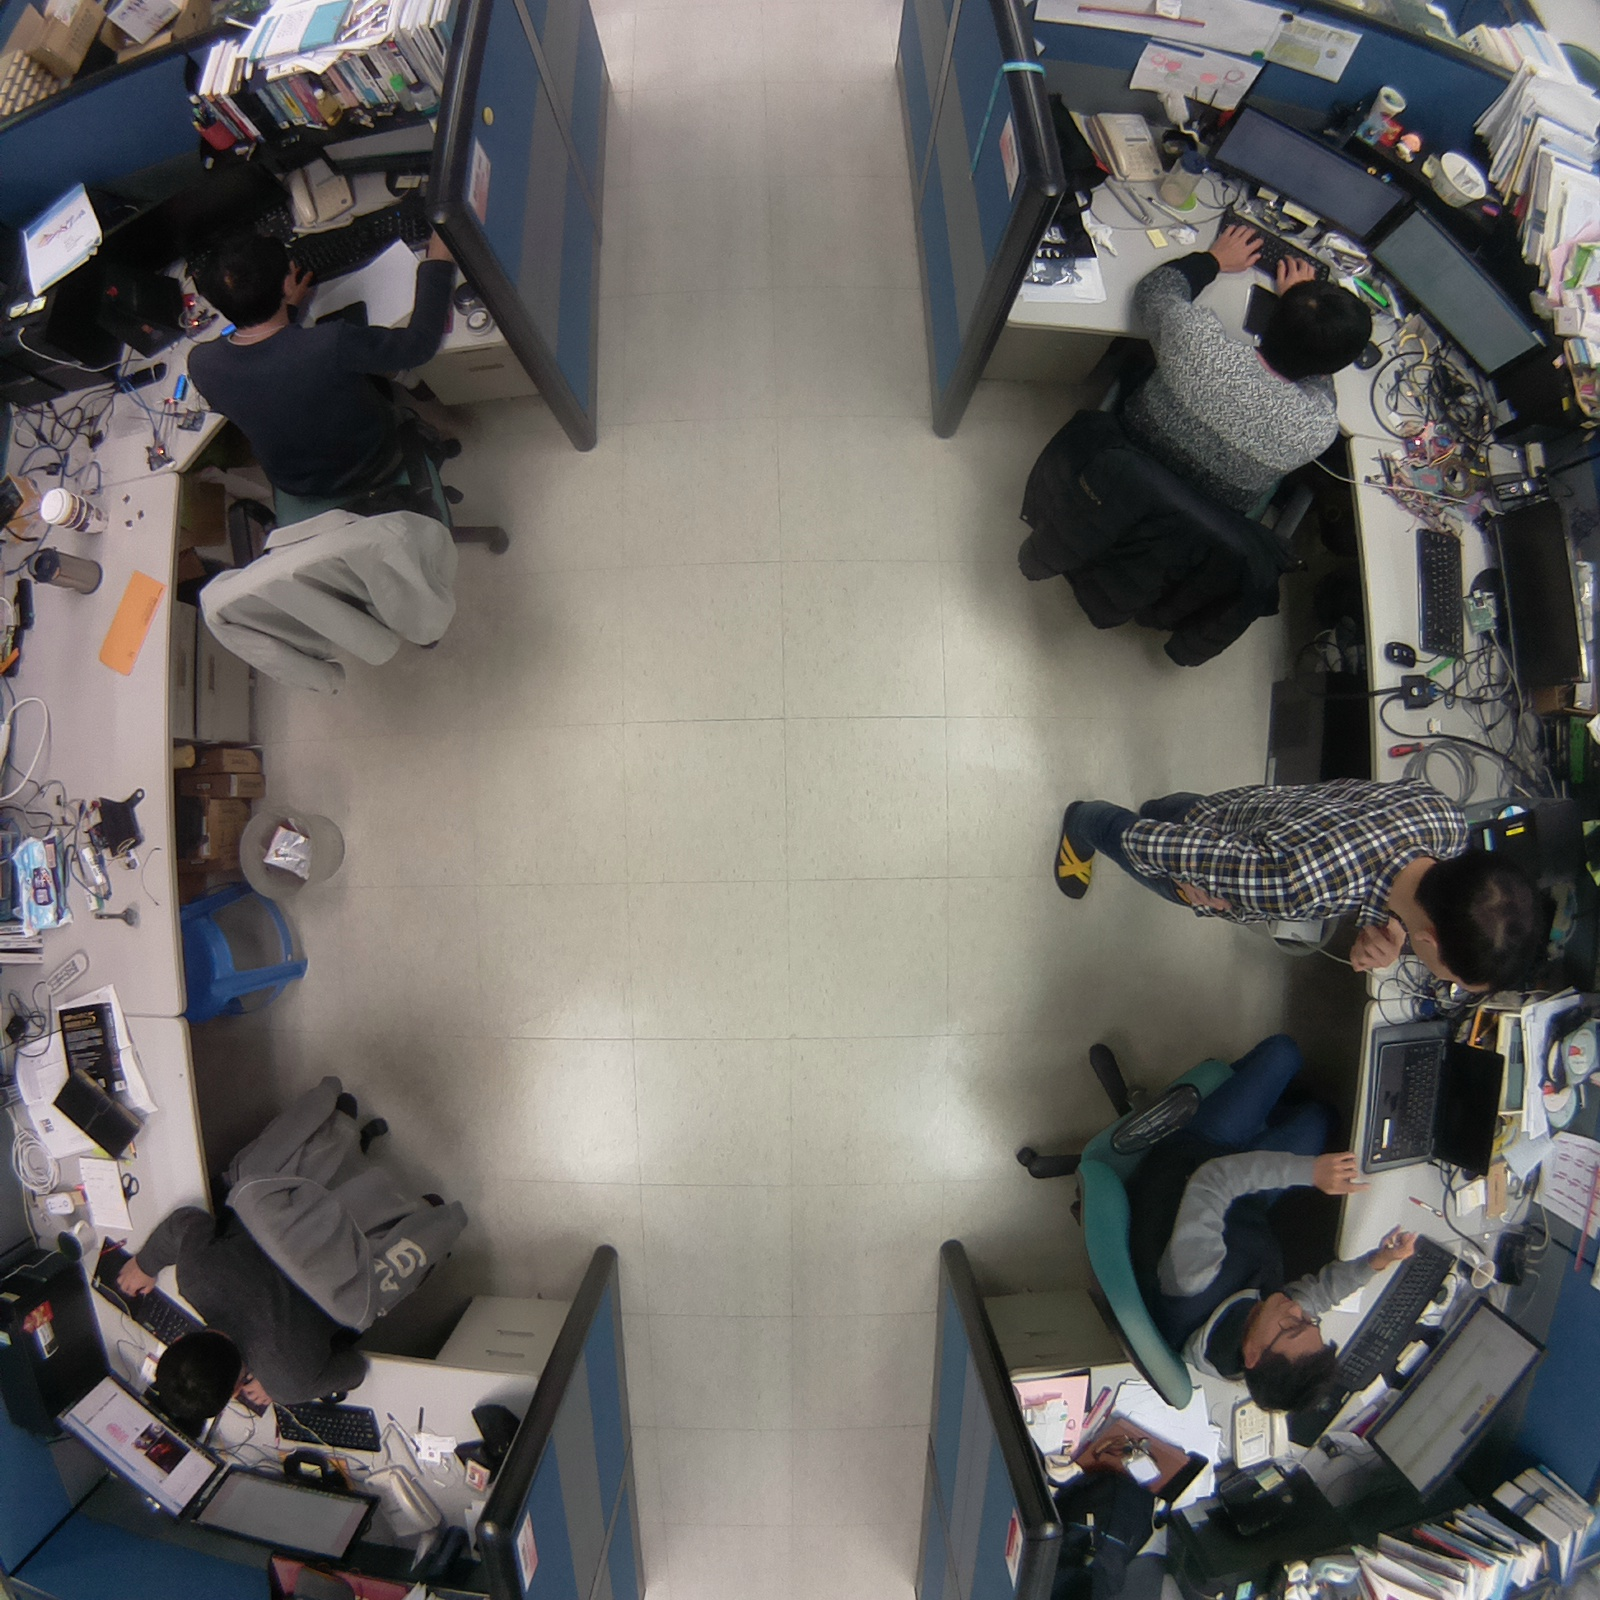head: (1423, 846, 1557, 1006), (1249, 263, 1387, 382), (1229, 1289, 1344, 1427), (174, 208, 300, 331), (140, 1319, 246, 1440)
sitting: (988, 1011, 1424, 1429), (996, 215, 1382, 686), (165, 218, 527, 706), (105, 1047, 481, 1440)
standing: (1030, 763, 1600, 1003)
